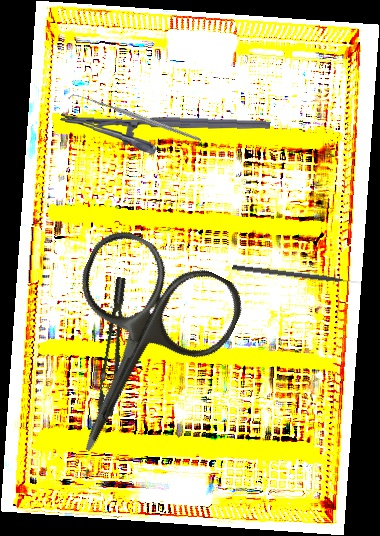Hook Surgical: (67, 48, 202, 190), (232, 263, 364, 288)
Iris Scissors: (13, 221, 252, 485)
Needle Holder: (59, 112, 271, 159)
Tissue Forceps: (83, 276, 146, 418)
